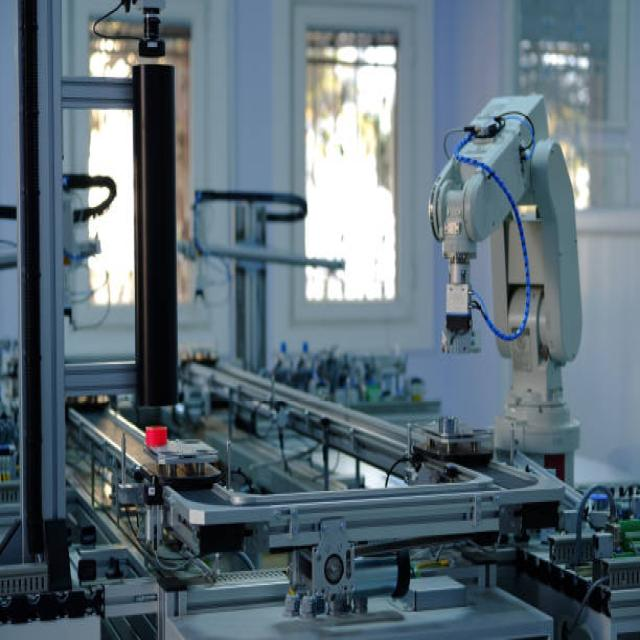Robotic-arm: (422, 87, 586, 470)
